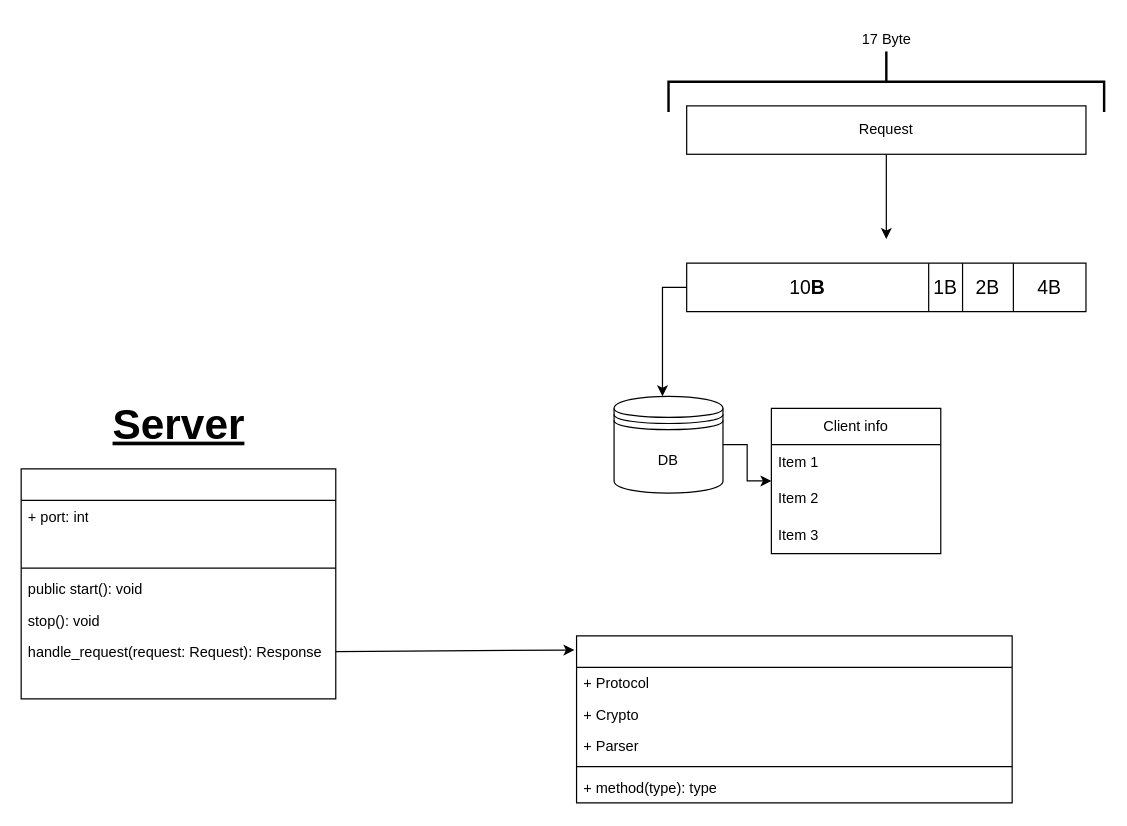
Image size: 1127x826. Some labels were removed from this diagram. The shapes that lost their labels are listed below. From the top down, each one's box as (x1, y1, x2, y2) in pixels, then its label:
(20, 468, 336, 699): main
(575, 635, 1012, 803): ClientHandler
